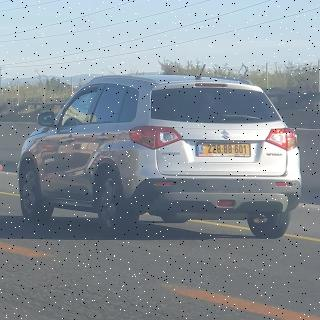LicensePlate: (203, 144, 250, 155)
